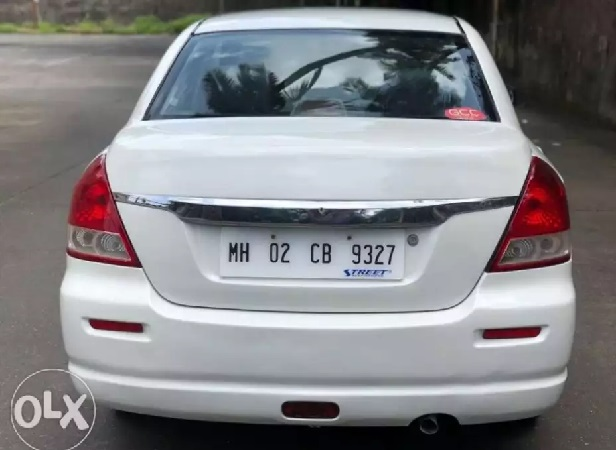licenseplate: (218, 224, 405, 284)
